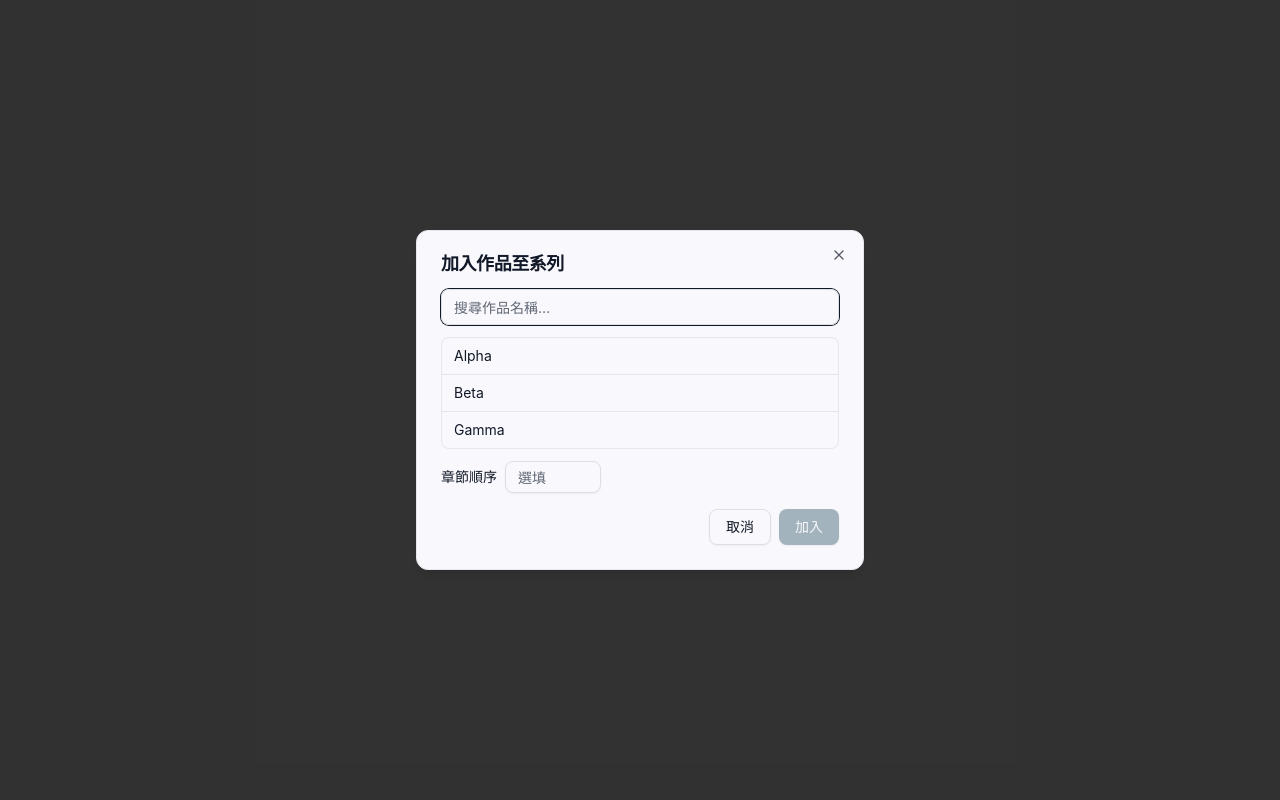
Test: search filter › clears selection when search changes
This screenshot has width=1280, height=800.
Click the option "Alpha": coordinates (473, 356) 442,338 -> 838,374
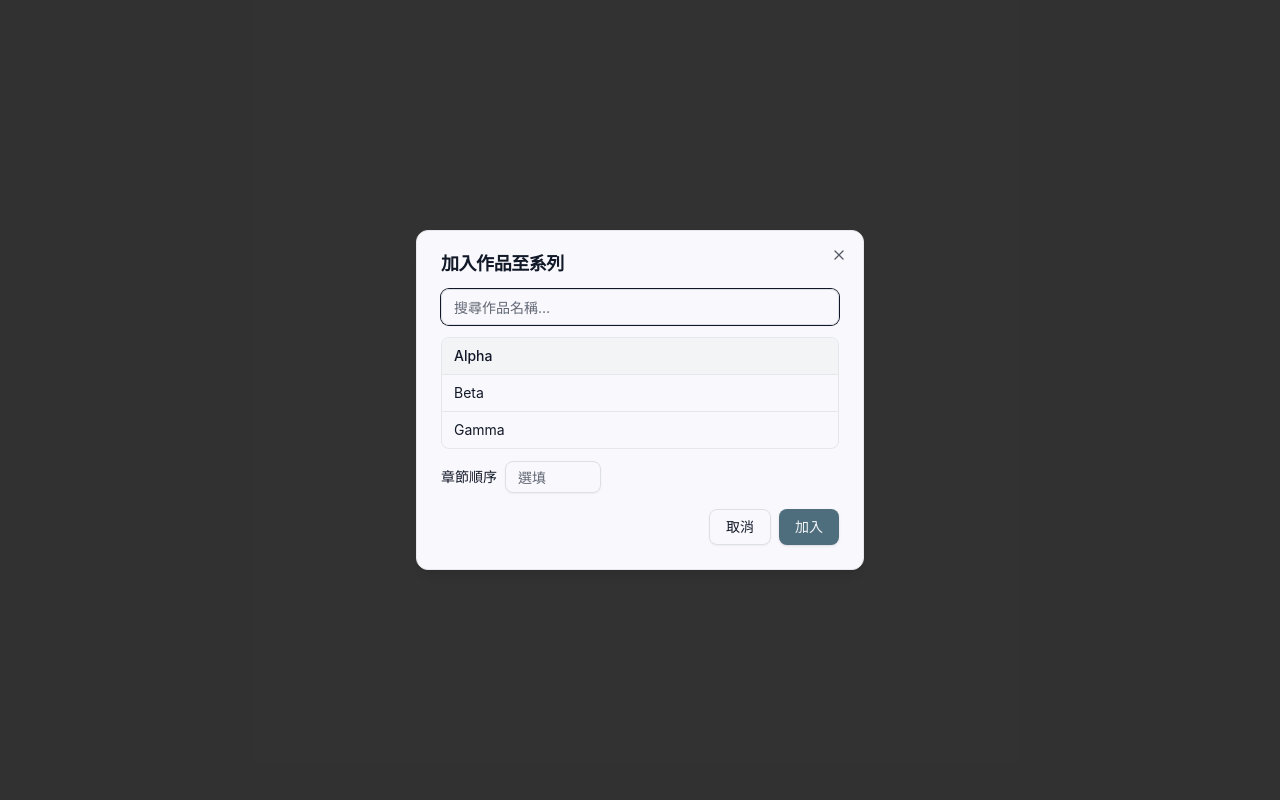
In the field labelled "搜尋作品": coordinates (640, 307) 441,289 -> 839,325, type "b"
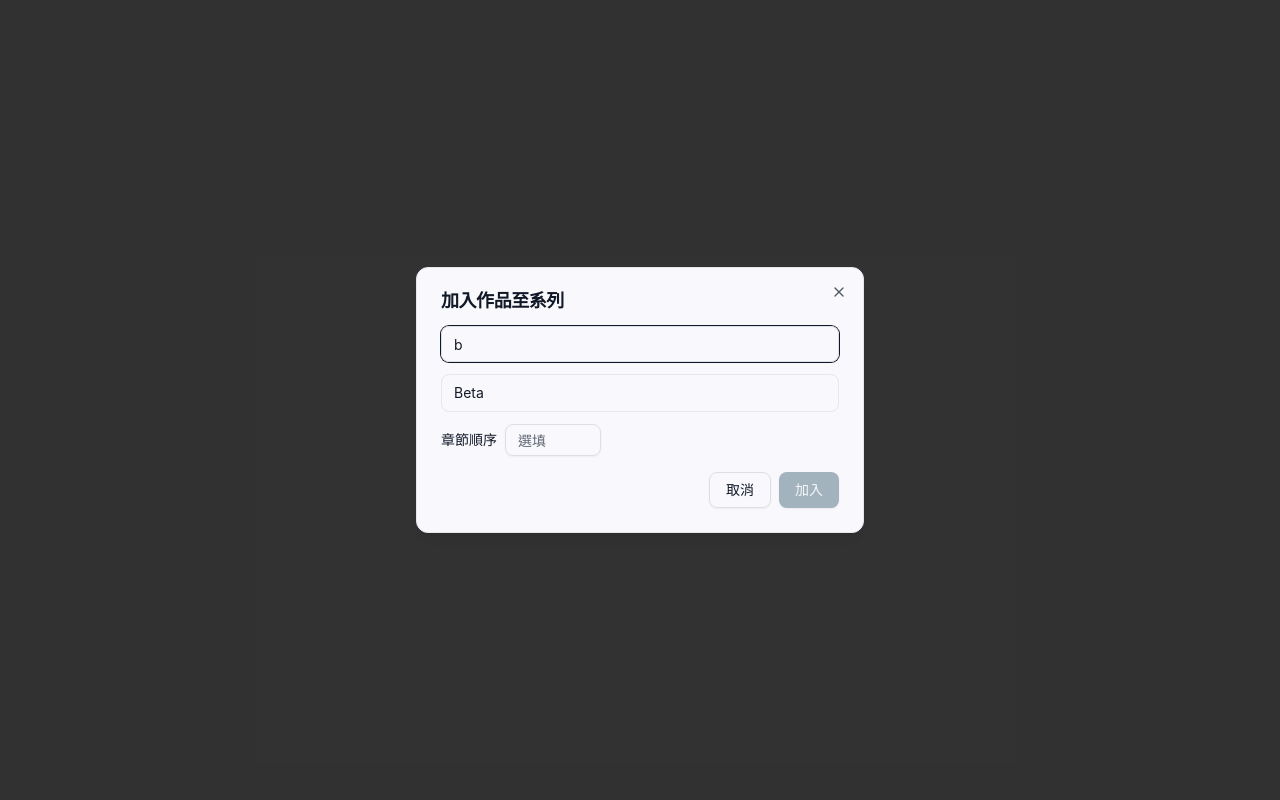
Now the button "加入" is disabled, box 779,472 -> 839,508
